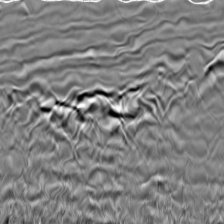cavities: (40, 86, 152, 133)
